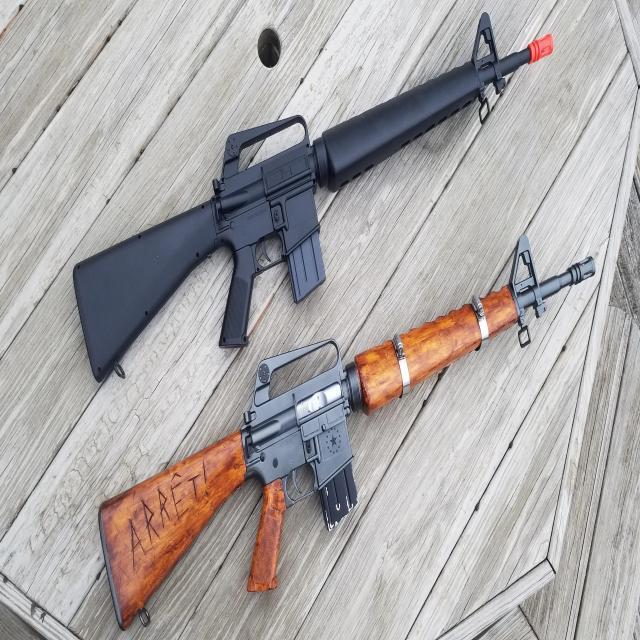weapon: (98, 228, 598, 632), (72, 12, 554, 384)
